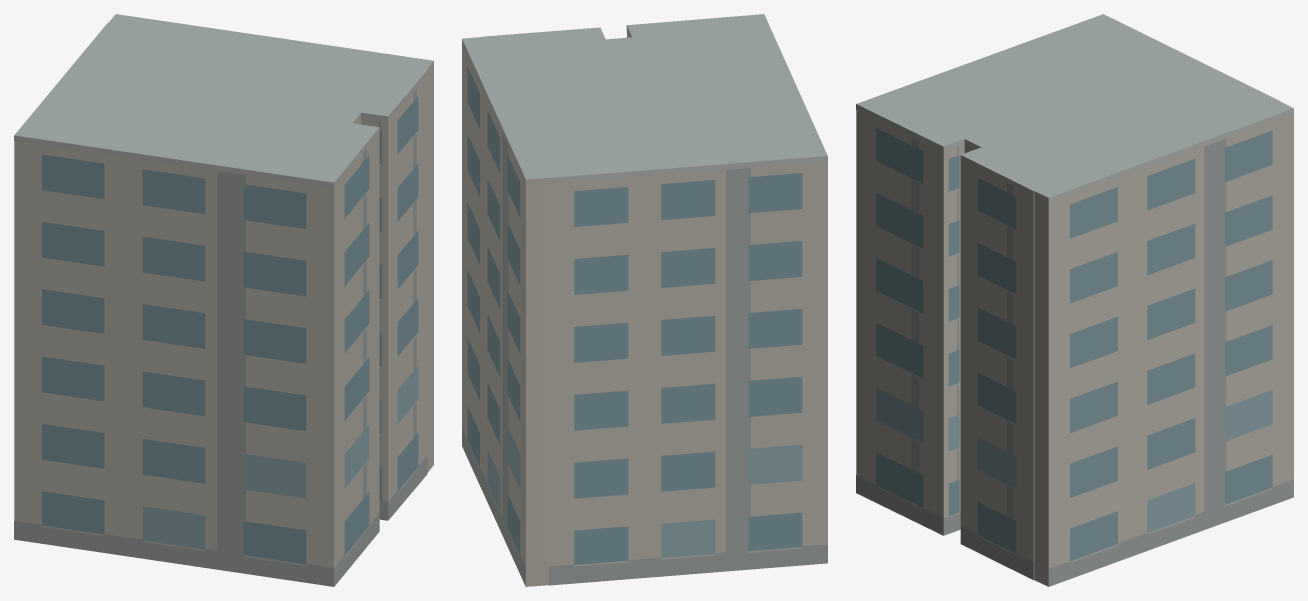
Rendered from survey-upis-32846142.glb.
The picture shows the model from 3 angles, left to right: view 1: azimuth 30°, elevation 25°; view 2: azimuth 150°, elevation 25°; view 3: azimuth 270°, elevation 25°; orthographic projection. The views are drawn at different scales.
Parts seen in each view (by area): view 1: survey-upis-32846142.tmp; view 2: survey-upis-32846142.tmp; view 3: survey-upis-32846142.tmp.
Part boxes in pixels (x1,y1,x2,y2): survey-upis-32846142.tmp: (14, 14, 433, 586); survey-upis-32846142.tmp: (462, 14, 827, 586); survey-upis-32846142.tmp: (856, 14, 1293, 586).
Size of the model in its own units: 17.33 by 17.1 by 17.44.
